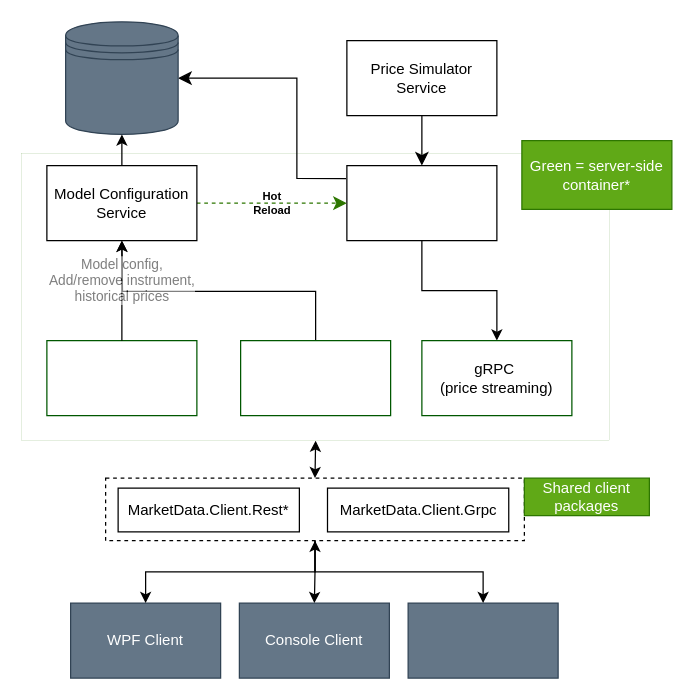
Some shapes in this 694 by 700 pixel diagram are drawn without their labels. The centre of each missing label's shape, as x and y in pixels:
gRPC: the point at 315,377
MarketData.db: the point at 121,77
PriceGenerator (Background service): the point at 421,202
REST server: the point at 121,377
Third party clients: the point at 482,640
